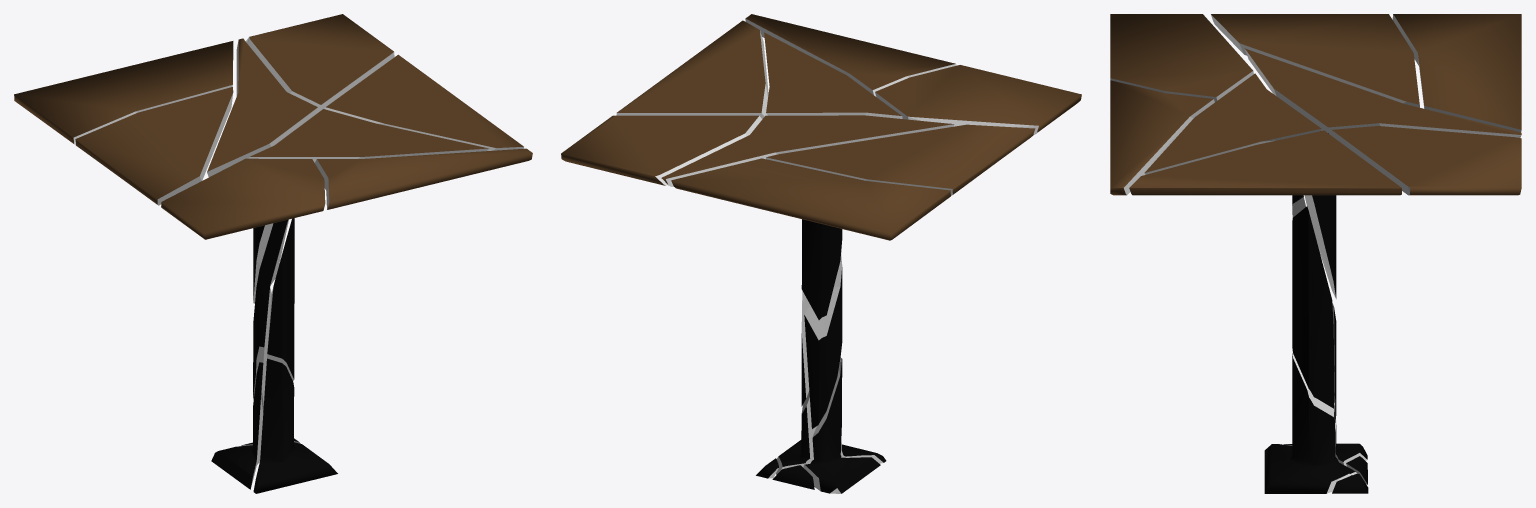
Rendered from Round Table.glb.
The picture shows the model from 3 angles, left to right: view 1: azimuth 30°, elevation 25°; view 2: azimuth 150°, elevation 25°; view 3: azimuth 270°, elevation 25°; orthographic projection. The views are drawn at different scales.
Parts seen in each view (by area): view 1: id0.005, id0.014, id0, id0.010, id0.011, id0.006, id0.002, id0.003, id0.001, id0.008, id0.012, id0.004 (+1 smaller); view 2: id0.005, id0.014, id0, id0.010, id0.011, id0.002, id0.003, id0.006, id0.012, id0.004, id0.009, id0.001 (+2 smaller); view 3: id0.005, id0.014, id0.011, id0.010, id0, id0.002, id0.003, id0.006, id0.008, id0.001, id0.009, id0.004 (+2 smaller).
Part boxes in pixels (x1,y1,x2,y2): id0.005: [14, 41, 233, 144]; id0.014: [75, 87, 233, 205]; id0: [161, 158, 325, 239]; id0.010: [245, 14, 394, 114]; id0.011: [325, 54, 523, 150]; id0.006: [315, 148, 532, 209]; id0.002: [207, 38, 317, 177]; id0.003: [248, 109, 488, 162]; id0.001: [253, 358, 337, 493]; id0.008: [267, 218, 294, 381]; id0.012: [253, 219, 288, 411]; id0.004: [211, 362, 263, 489]; id0.005: [671, 158, 950, 240]; id0.014: [766, 124, 1035, 195]; id0: [875, 65, 1081, 134]; id0.010: [561, 115, 762, 185]; id0.011: [616, 20, 768, 118]; id0.002: [661, 115, 954, 186]; id0.003: [764, 32, 902, 118]; id0.006: [745, 14, 956, 96]; id0.012: [804, 253, 842, 428]; id0.004: [803, 358, 880, 493]; id0.009: [801, 219, 842, 319]; id0.001: [776, 363, 886, 474]; id0.005: [1392, 14, 1521, 132]; id0.014: [1211, 14, 1419, 107]; id0.011: [1129, 130, 1401, 195]; id0.010: [1329, 126, 1521, 195]; id0: [1110, 14, 1253, 102]; id0.002: [1244, 48, 1521, 137]; id0.003: [1144, 73, 1321, 174]; id0.006: [1110, 80, 1214, 195]; id0.008: [1292, 206, 1334, 408]; id0.001: [1264, 350, 1356, 493]; id0.009: [1304, 195, 1336, 299]; id0.004: [1284, 419, 1367, 466].
Size of the model in its own units: 0.7796 by 0.7761 by 0.7795.
